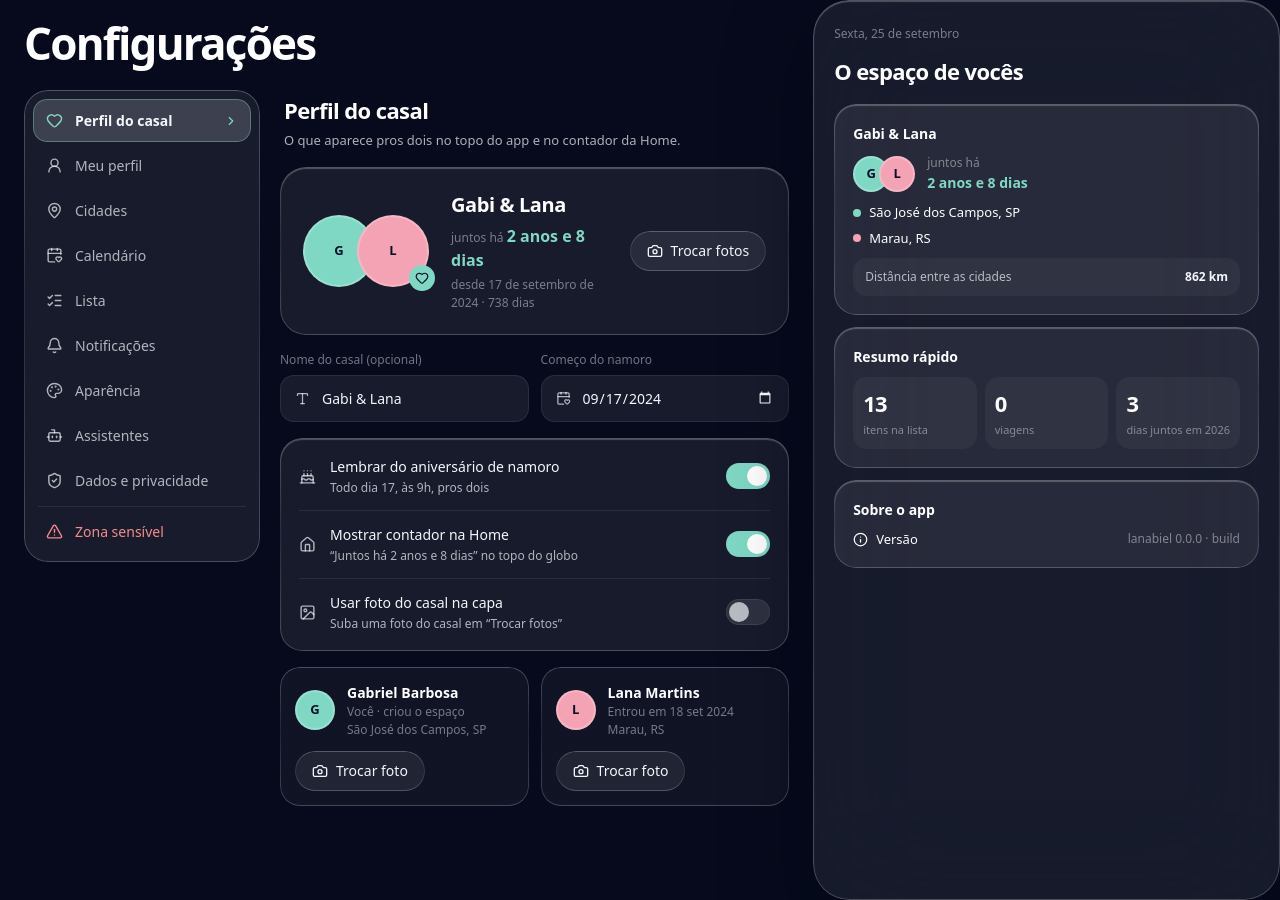
Test: A15 — escrita: patch da coluna certa, e volta atrás no erro › erro: o toggle fica no valor anterior e a causa aparece junto
Click the switch named "Usar foto do casal na capa" in the row of "Suba uma foto do casal em “Trocar fotos”" at (748, 612), box [726,599,770,625]
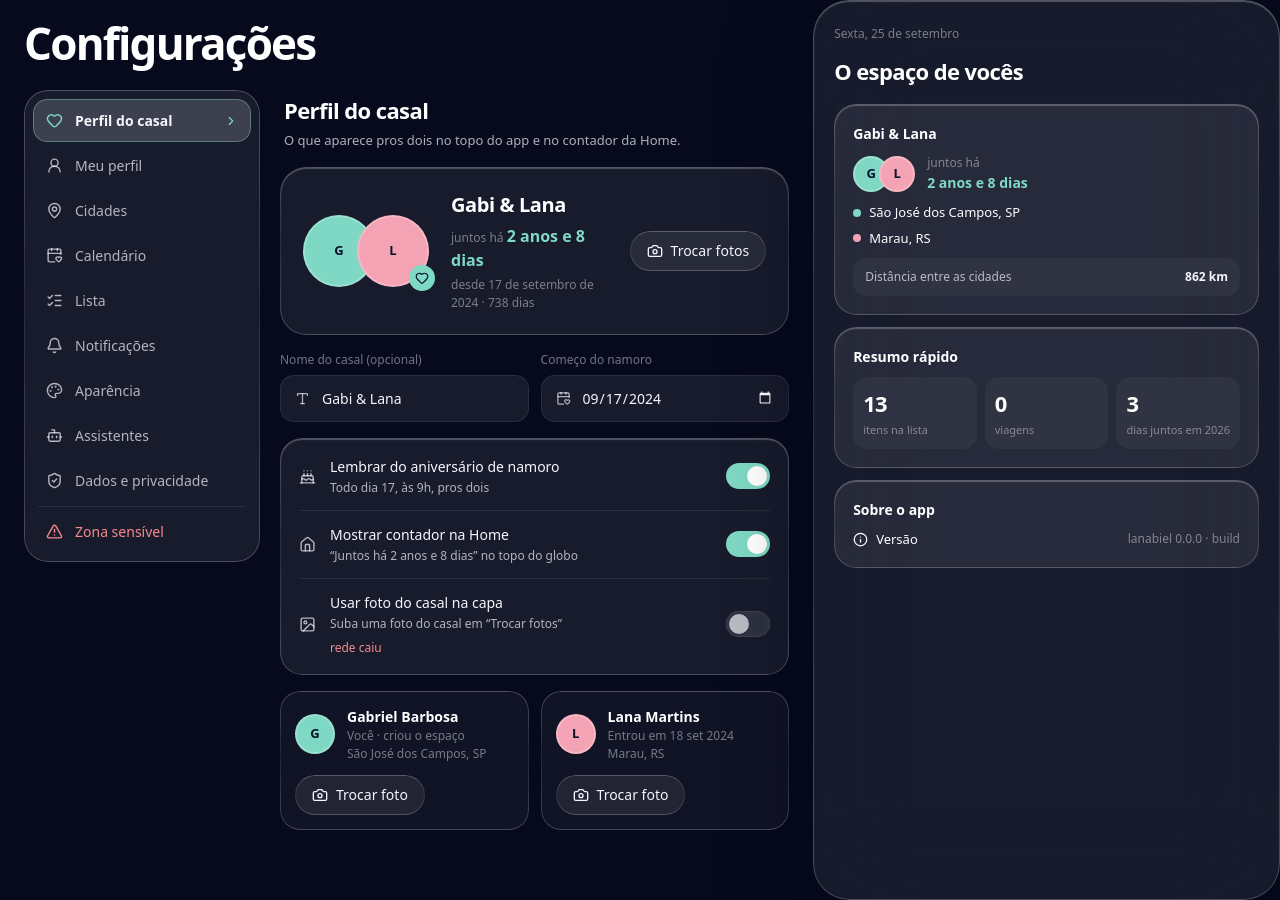
Check: the text "rede caiu" is shown, box [330,639,382,656]
